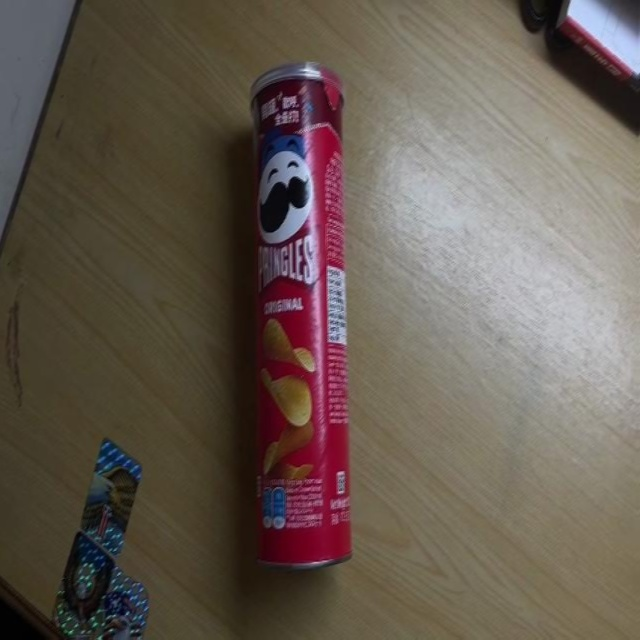Pringles: (251, 62, 355, 571)
